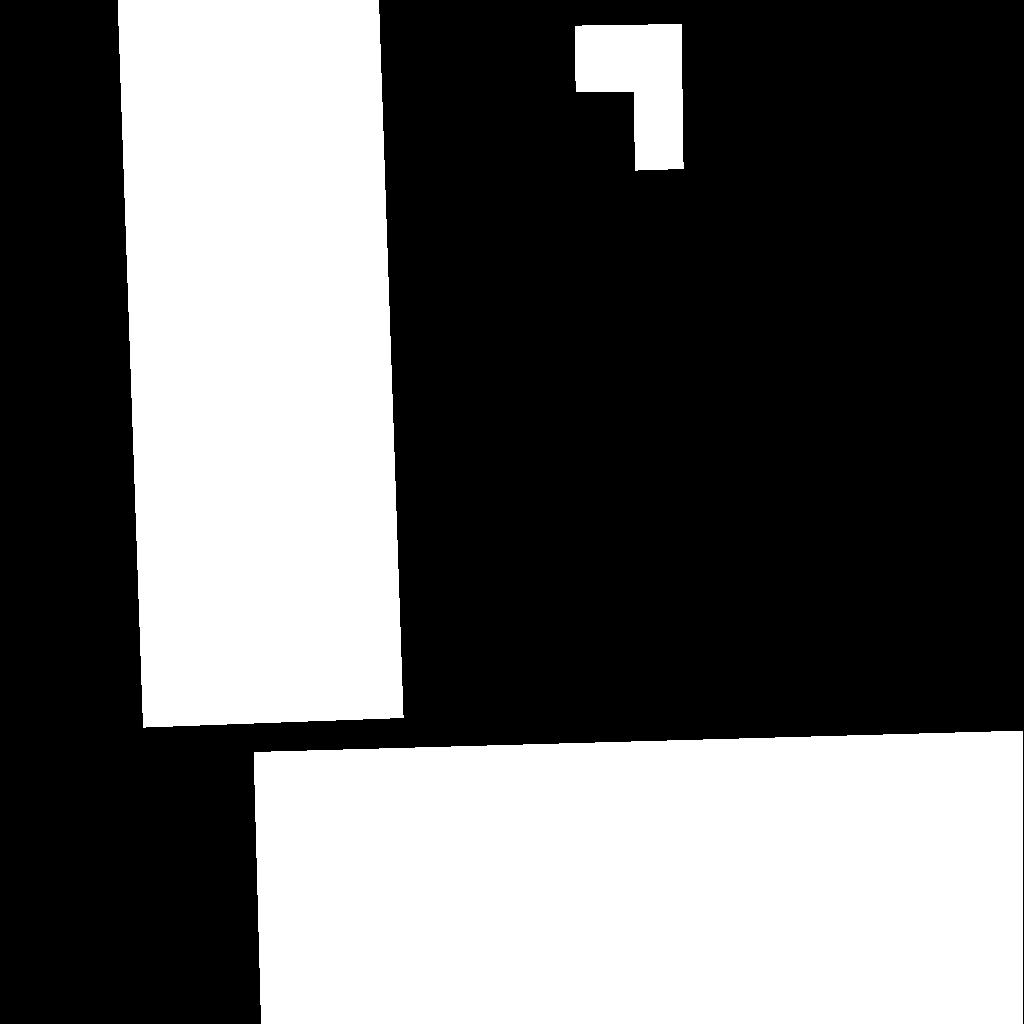building: (254, 731, 1024, 1024), (118, 0, 404, 728), (575, 24, 684, 171)
